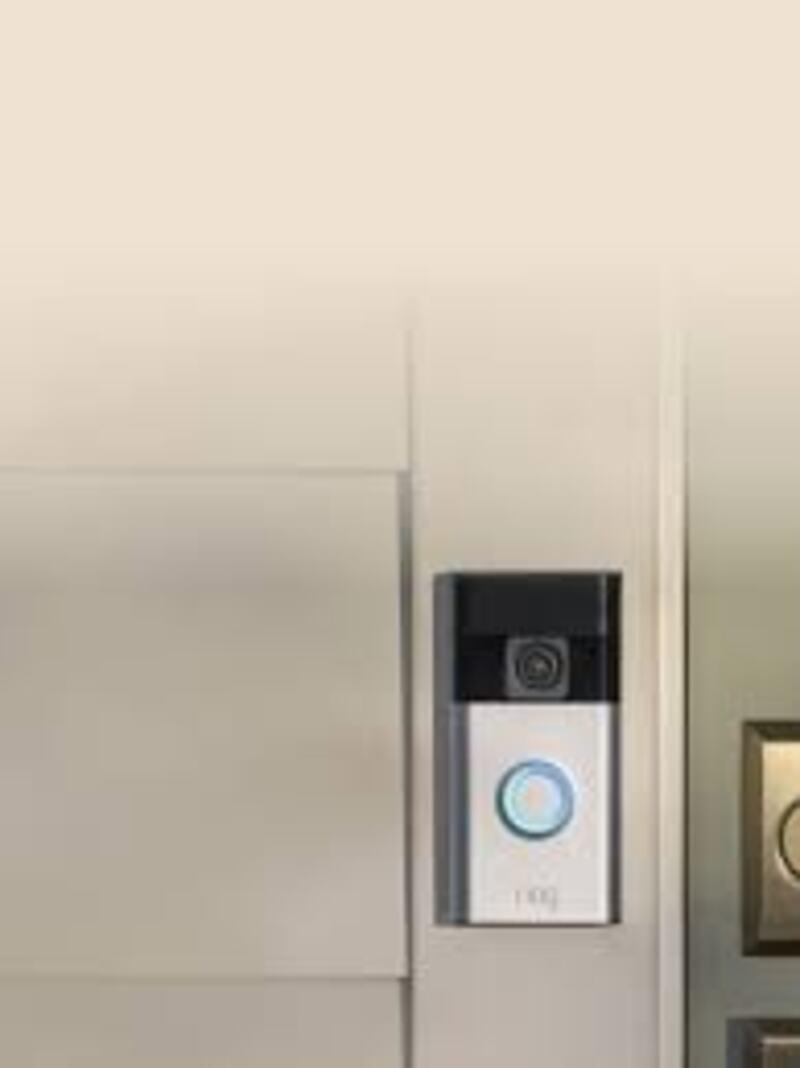doorbell: (443, 566, 625, 935)
